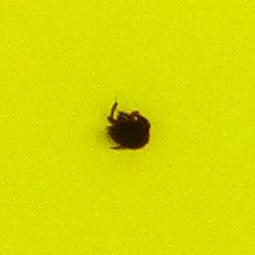Hymenoptera: (100, 100, 155, 155)
